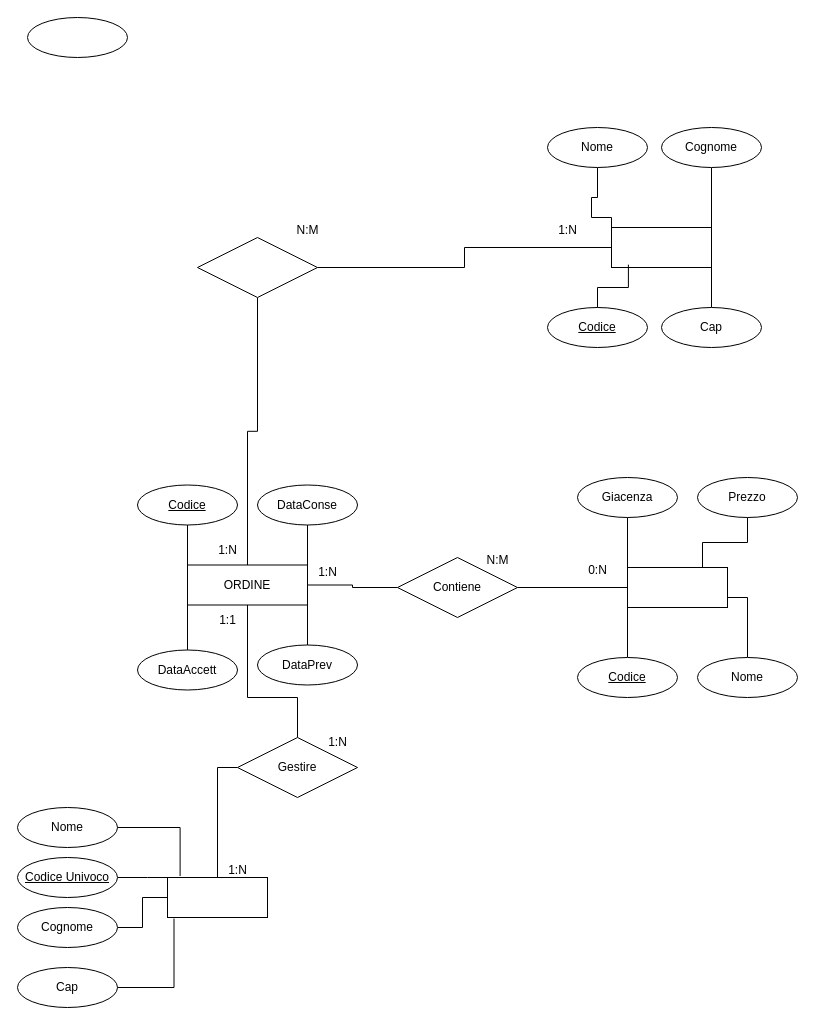
This 815x1025 diagram has some shape labels left out. Each missing label, with the centre of its shape:
"CLIENTE" belongs at (661,247).
"Creare" belongs at (257,267).
"IMPIEGATI" belongs at (217,897).
"PRODOTTO" belongs at (677,587).
"Quantità" belongs at (77,37).
